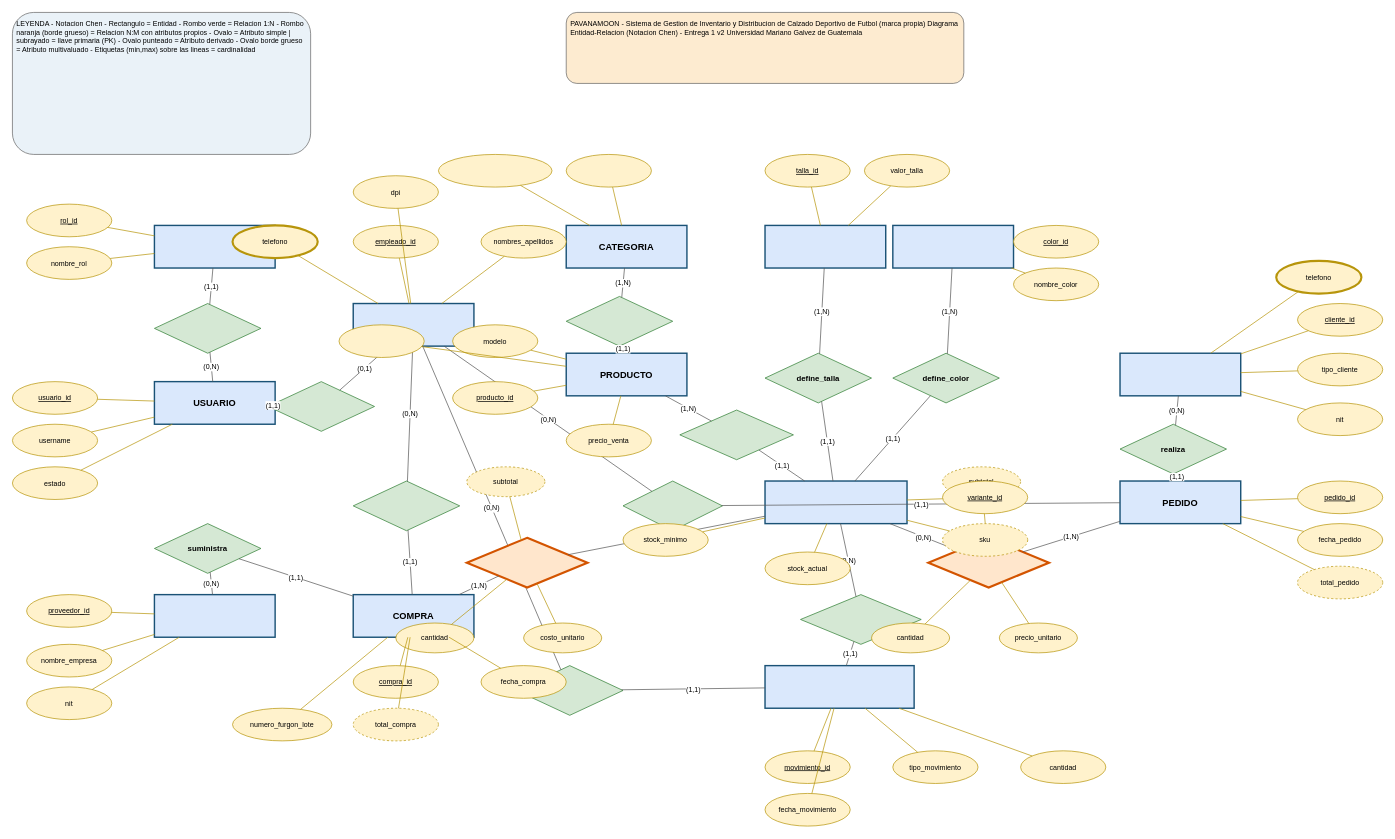
Some shapes in this 1395 by 839 pixel diagram are drawn without their labels. The shapes that lost their labels are listed below. From the top down, each one's box as (x1, y1, x2, y2) in pixels, then its label:
(438, 154, 552, 187): nombre_categoria (Nino/Juvenil/Adulto)
(566, 154, 651, 187): categoria_id
(153, 224, 275, 268): ROL
(764, 224, 886, 268): TALLA
(892, 224, 1014, 268): COLOR
(154, 303, 261, 353): tiene
(338, 324, 424, 357): tipo_suela
(352, 302, 474, 346): EMPLEADO
(566, 296, 673, 346): clasifica
(1119, 352, 1241, 396): CLIENTE
(267, 381, 375, 431): posee
(679, 409, 793, 460): genera_variante
(353, 480, 460, 531): registra
(622, 480, 722, 531): atiende
(764, 480, 907, 524): VARIANTE_PRODUCTO
(465, 536, 588, 588): contiene
(927, 536, 1050, 588): incluye
(153, 594, 275, 638): PROVEEDOR
(800, 594, 921, 644): genera_movimiento
(516, 665, 623, 715): ejecuta
(764, 665, 914, 709): MOVIMIENTO_STOCK
